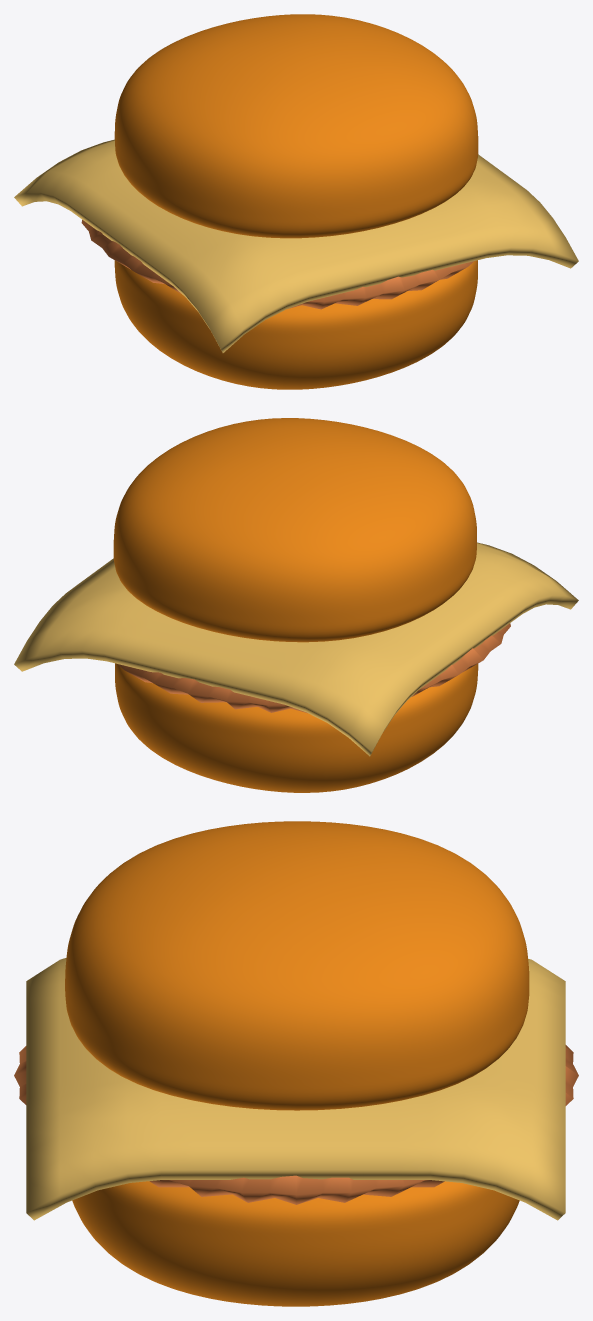
The model's file is hamburger.glb.
The picture shows the model from 3 angles, top to bottom: view 1: azimuth 30°, elevation 25°; view 2: azimuth 150°, elevation 25°; view 3: azimuth 270°, elevation 25°; orthographic projection. The views are drawn at different scales.
Visible parts, largest first — view 1: Cube.001, Plane, Cube, Cylinder; view 2: Cube.001, Plane, Cube, Cylinder; view 3: Cube.001, Plane, Cube, Cylinder.
Boxes of the visible parts, x1,y1,x2,y2 form: Cube.001: (114, 14, 478, 238); Plane: (14, 139, 578, 352); Cube: (114, 260, 477, 389); Cylinder: (81, 220, 474, 309); Cube.001: (113, 418, 476, 642); Plane: (14, 542, 578, 756); Cube: (115, 663, 478, 792); Cylinder: (118, 623, 510, 713); Cube.001: (65, 821, 529, 1110); Plane: (26, 957, 565, 1220); Cube: (72, 1181, 519, 1306); Cylinder: (14, 1045, 578, 1204).
Size of the model in its own units: 11.25 by 8.83 by 11.25.
